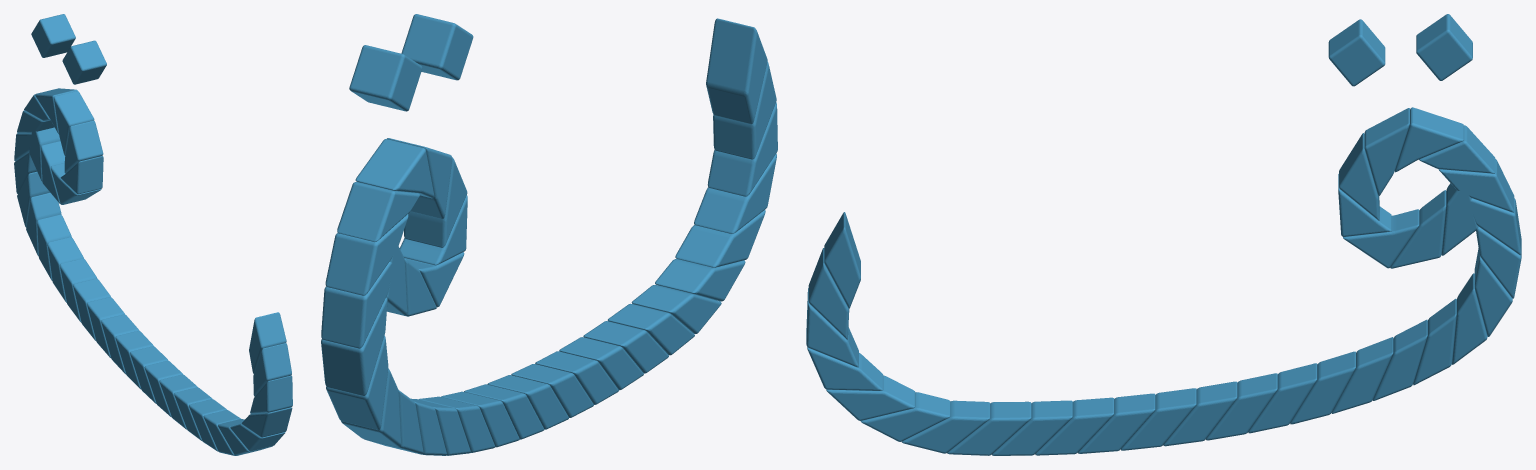
File: qaf.fbx
3 views of the same model, side by side, from view 1: azimuth 30°, elevation 25°; view 2: azimuth 150°, elevation 25°; view 3: azimuth 270°, elevation 25° (orthographic). The views are drawn at different scales.
Visible parts, largest first — view 1: Cube, Cube.001, Cube.002; view 2: Cube, Cube.002, Cube.001; view 3: Cube, Cube.001, Cube.002.
Part boxes in pixels (bbox=[...]): Cube: bbox=[14, 88, 292, 455]; Cube.001: bbox=[62, 40, 106, 84]; Cube.002: bbox=[31, 14, 75, 57]; Cube: bbox=[321, 18, 777, 455]; Cube.002: bbox=[349, 45, 422, 111]; Cube.001: bbox=[401, 14, 473, 80]; Cube: bbox=[806, 107, 1521, 455]; Cube.001: bbox=[1328, 19, 1385, 86]; Cube.002: bbox=[1416, 14, 1472, 80].
Size of the model in its own units: 60 by 670 by 1019.
